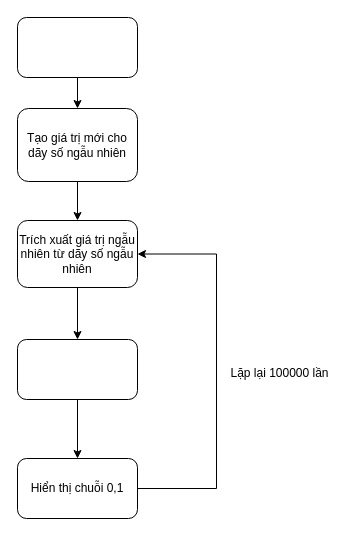
This 355x536 diagram has some shape labels left out. Here are the shapes that lost their labels. From the top down, the centre of each, then its label:
(77,47): Khởi tạo
(77,369): Tạo dòng bit
